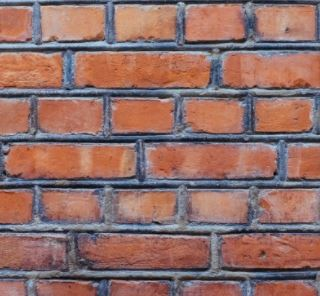brick: (143, 139, 281, 183), (70, 50, 214, 90), (6, 140, 138, 181), (76, 234, 213, 269), (219, 50, 320, 89), (222, 237, 320, 270), (1, 232, 72, 273), (112, 3, 181, 44), (180, 94, 250, 131), (109, 96, 177, 134), (185, 3, 248, 44), (252, 3, 316, 42), (112, 187, 183, 222), (252, 94, 315, 133), (37, 97, 105, 133), (2, 50, 64, 89), (37, 190, 110, 223), (41, 5, 104, 43), (257, 186, 320, 223), (186, 190, 253, 221), (1, 187, 37, 225), (287, 141, 320, 182), (33, 275, 99, 295), (1, 4, 34, 42), (1, 95, 31, 134), (180, 280, 243, 296), (108, 281, 171, 296), (253, 282, 320, 294)
